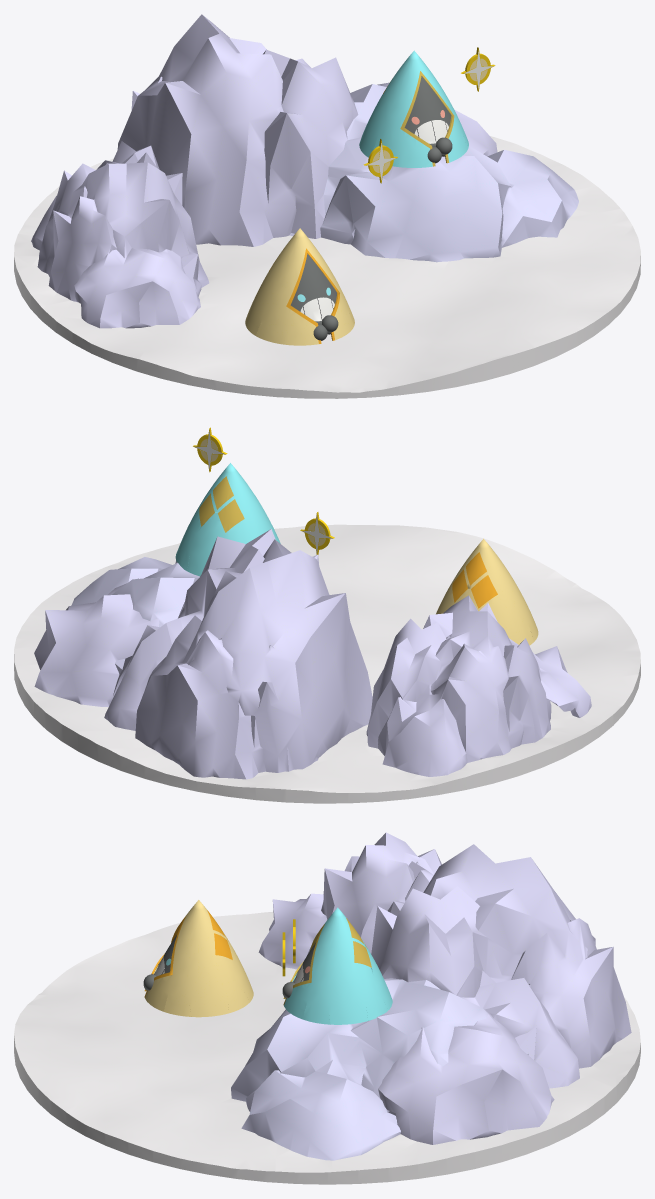
3 renders of one model, top to bottom at view 1: azimuth 30°, elevation 25°; view 2: azimuth 150°, elevation 25°; view 3: azimuth 270°, elevation 25°, orthographic.
Visible parts, largest first — view 1: Object_2; view 2: Object_2; view 3: Object_2.
Part boxes in pixels (x1,y1,x2,y2): Object_2: (14, 14, 640, 398); Object_2: (14, 427, 640, 803); Object_2: (14, 832, 640, 1184).
Bounding box in the file's own units: 180 × 63.01 × 180.
1 material, 1 textured.
